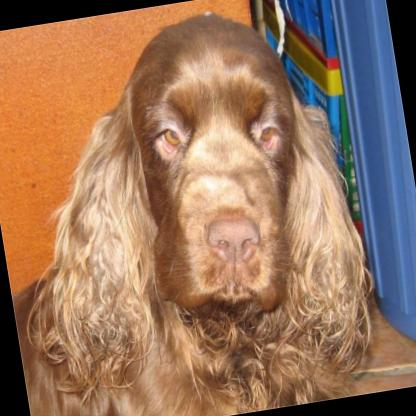Sussex_spaniel: (0, 0, 382, 416)
